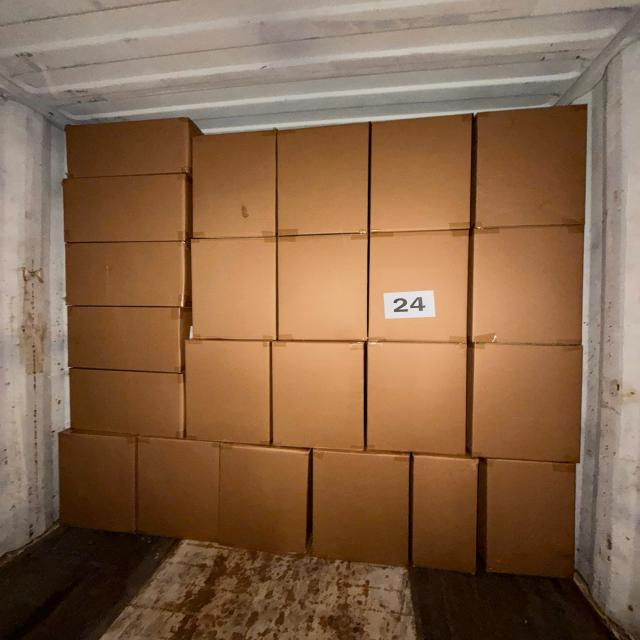Carton: (475, 106, 587, 229), (469, 342, 581, 464), (471, 226, 585, 345), (364, 342, 468, 459), (372, 112, 471, 234), (311, 448, 409, 568), (368, 230, 470, 344), (483, 456, 574, 583), (270, 339, 366, 452), (218, 441, 306, 558), (280, 122, 369, 236), (278, 233, 370, 343), (182, 340, 272, 448), (192, 128, 278, 238), (190, 236, 276, 340), (137, 435, 217, 543), (58, 429, 138, 536), (66, 306, 188, 375), (66, 366, 183, 436), (64, 242, 188, 308), (59, 177, 186, 241), (411, 453, 476, 577), (64, 115, 188, 173)
